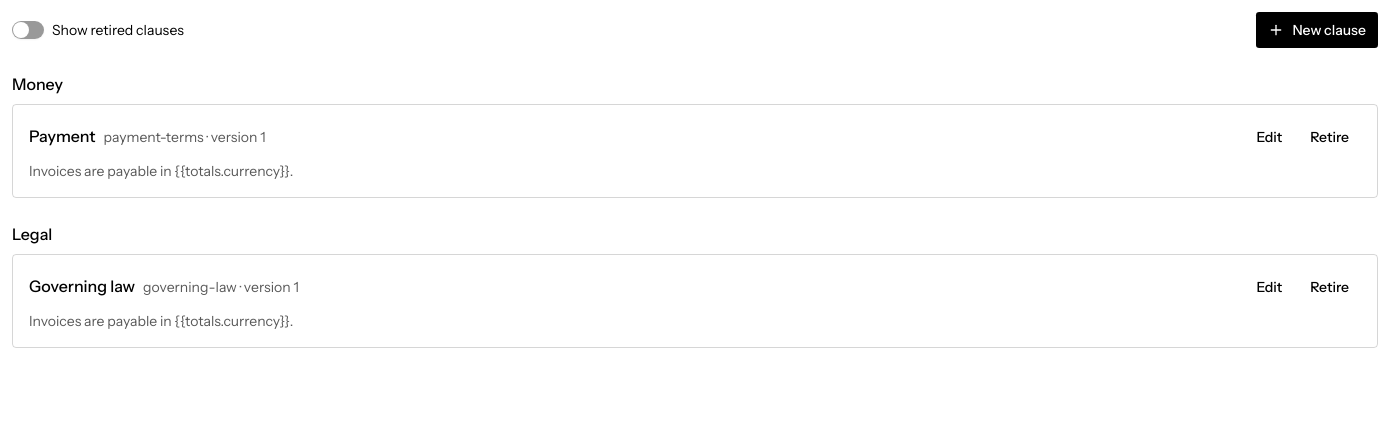
Test: ClauseLibrary › explains when a clause cannot be retired because a template uses it
Click the button "Retire" in the row of "payment-terms". click: (1330, 137)
box: [1298, 121, 1361, 153]
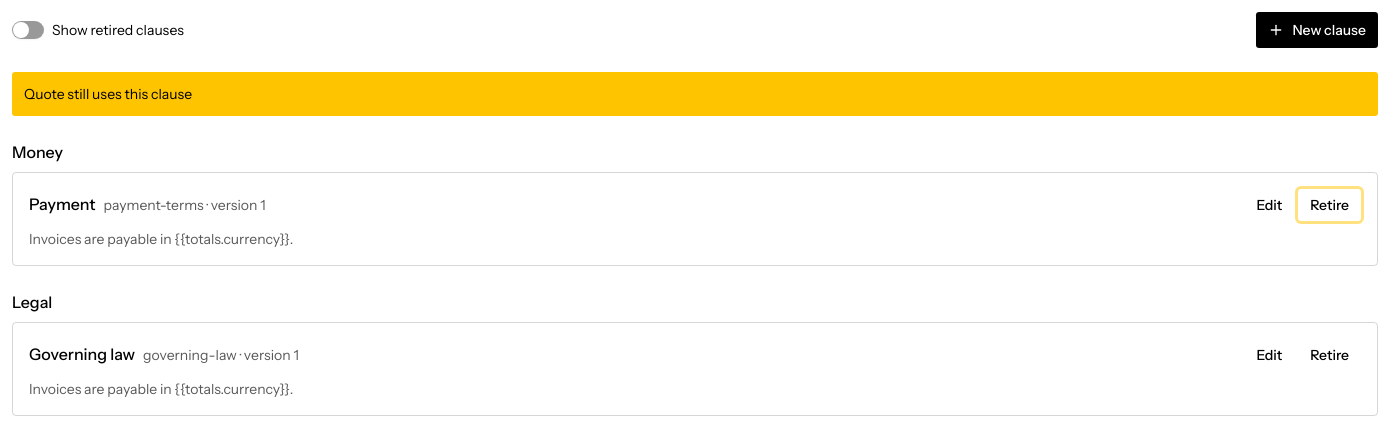
Now the message reads "Quote still uses this clause", box [24, 85, 192, 103]
